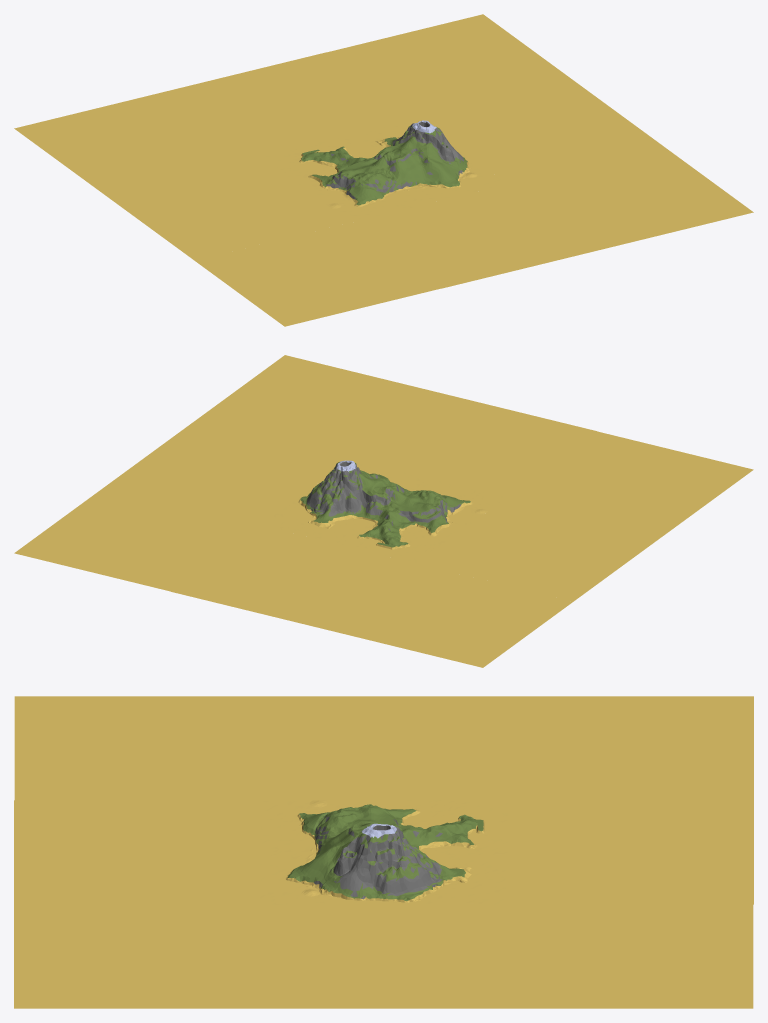
The picture shows the model from 3 angles, top to bottom: view 1: azimuth 30°, elevation 25°; view 2: azimuth 150°, elevation 25°; view 3: azimuth 270°, elevation 25°; orthographic projection. The views are drawn at different scales.
Parts seen in each view (by area): view 1: Terrain.049, Terrain.050, Terrain.046, Terrain.048, Terrain.093, Terrain.047, Terrain.043, Terrain.044, Terrain.085, Terrain.045, Terrain.061, Terrain.073 (+112 smaller); view 2: Terrain.049, Terrain.050, Terrain.046, Terrain.048, Terrain.093, Terrain.047, Terrain.043, Terrain.044, Terrain.085, Terrain.045, Terrain.061, Terrain.073 (+113 smaller); view 3: Terrain.049, Terrain.050, Terrain.046, Terrain.048, Terrain.093, Terrain.047, Terrain.043, Terrain.044, Terrain.085, Terrain.045, Terrain.073, Terrain.061 (+118 smaller).
Part boxes in pixels (x1,y1,x2,y2): Terrain.049: [282, 112, 363, 144]; Terrain.050: [338, 99, 416, 130]; Terrain.046: [259, 94, 337, 125]; Terrain.048: [234, 125, 308, 156]; Terrain.093: [619, 186, 691, 217]; Terrain.047: [315, 82, 389, 111]; Terrain.043: [237, 79, 313, 107]; Terrain.044: [293, 66, 366, 94]; Terrain.085: [664, 176, 732, 206]; Terrain.045: [211, 108, 281, 136]; Terrain.061: [443, 58, 512, 86]; Terrain.073: [513, 106, 581, 134]; Terrain.049: [287, 538, 368, 570]; Terrain.050: [234, 525, 312, 557]; Terrain.046: [263, 557, 342, 588]; Terrain.048: [343, 552, 416, 582]; Terrain.093: [277, 380, 348, 411]; Terrain.047: [211, 545, 286, 574]; Terrain.043: [242, 575, 318, 604]; Terrain.044: [189, 562, 262, 590]; Terrain.085: [236, 370, 303, 400]; Terrain.045: [319, 571, 389, 599]; Terrain.061: [101, 511, 170, 540]; Terrain.073: [165, 462, 233, 490]; Terrain.049: [507, 832, 579, 869]; Terrain.050: [507, 869, 579, 904]; Terrain.046: [579, 832, 643, 869]; Terrain.048: [507, 800, 579, 832]; Terrain.093: [72, 951, 148, 981]; Terrain.047: [579, 869, 643, 904]; Terrain.043: [643, 832, 702, 869]; Terrain.044: [643, 869, 702, 904]; Terrain.085: [72, 981, 148, 1008]; Terrain.045: [579, 800, 643, 832]; Terrain.073: [378, 953, 446, 983]; Terrain.061: [561, 950, 626, 981].
Size of the model in its own units: 750054 by 57687 by 750536.
